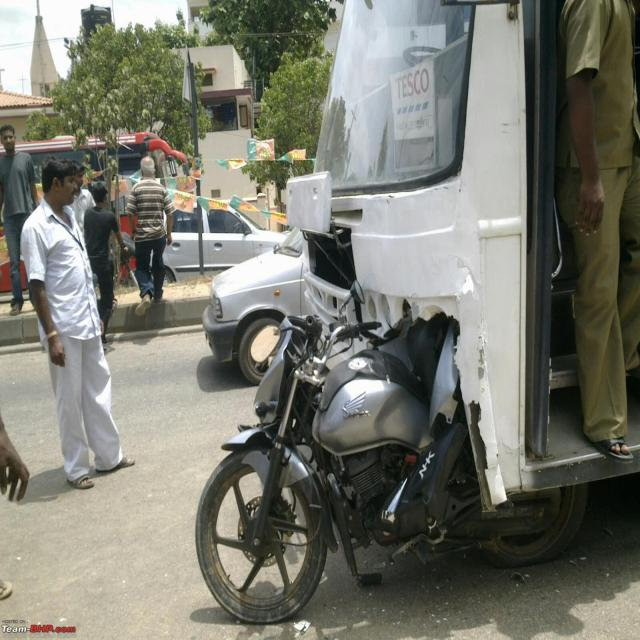accident: (196, 282, 588, 623)
bus: (288, 0, 640, 510)
car: (202, 228, 306, 385), (164, 198, 285, 280)
